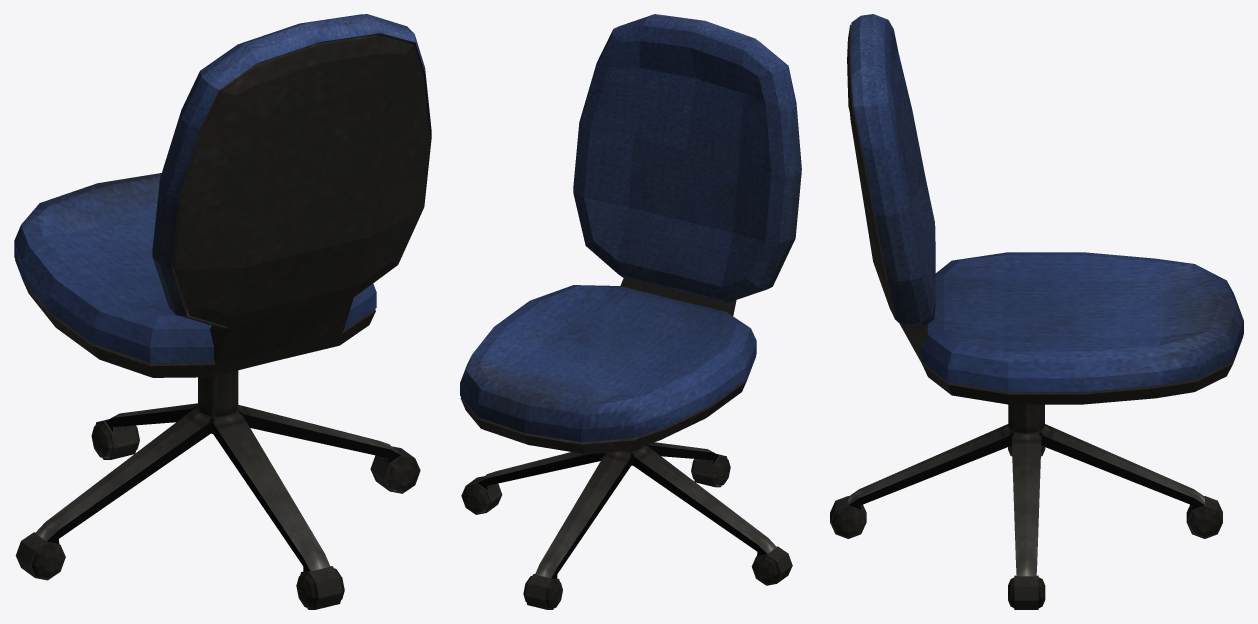
Rendered from 办公椅.fbx.
3 views of the same model, side by side, from view 1: azimuth 30°, elevation 25°; view 2: azimuth 150°, elevation 25°; view 3: azimuth 270°, elevation 25° (orthographic). The views are drawn at different scales.
Visible parts, largest first — view 1: Cube; view 2: Cube; view 3: Cube.
Part boxes in pixels (box(x1,y1,x2,y2)): Cube: box(14, 14, 431, 609); Cube: box(460, 14, 801, 609); Cube: box(830, 14, 1243, 609).
Size of the model in its own units: 113 by 158 by 119.
1 material, 1 textured.
